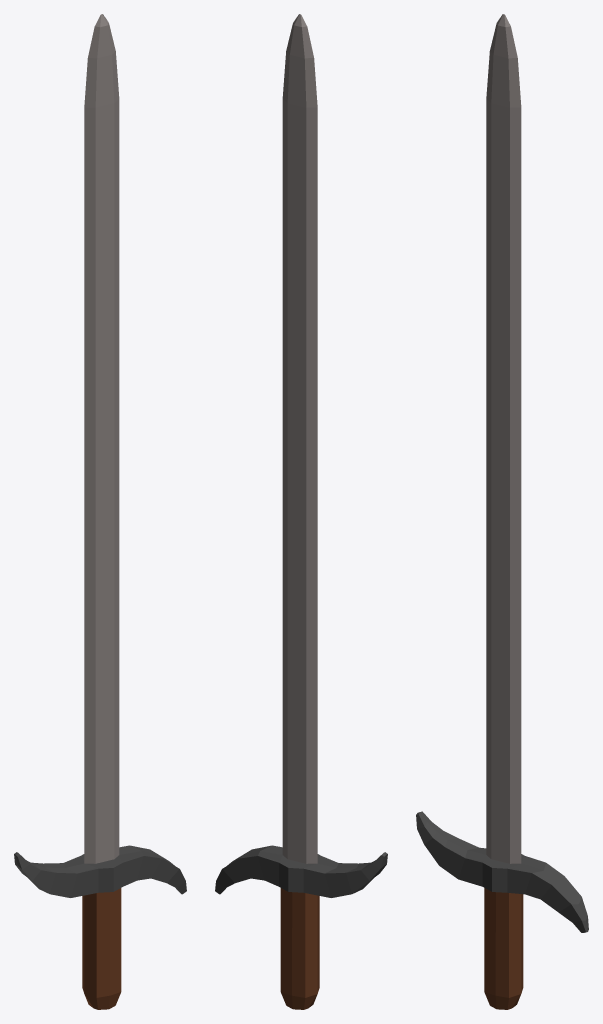
File: Sword1.fbx
The picture shows the model from 3 angles, left to right: view 1: azimuth 30°, elevation 25°; view 2: azimuth 150°, elevation 25°; view 3: azimuth 330°, elevation 25°; orthographic projection.
Visible parts, largest first — view 1: Cylinder; view 2: Cylinder; view 3: Cylinder.
Boxes of the visible parts, <box> form: Cylinder: <box>14,14,186,1009</box>; Cylinder: <box>215,14,387,1009</box>; Cylinder: <box>416,14,588,1009</box>.
Size of the model in its own units: 11.66 by 64.75 by 2.79.
